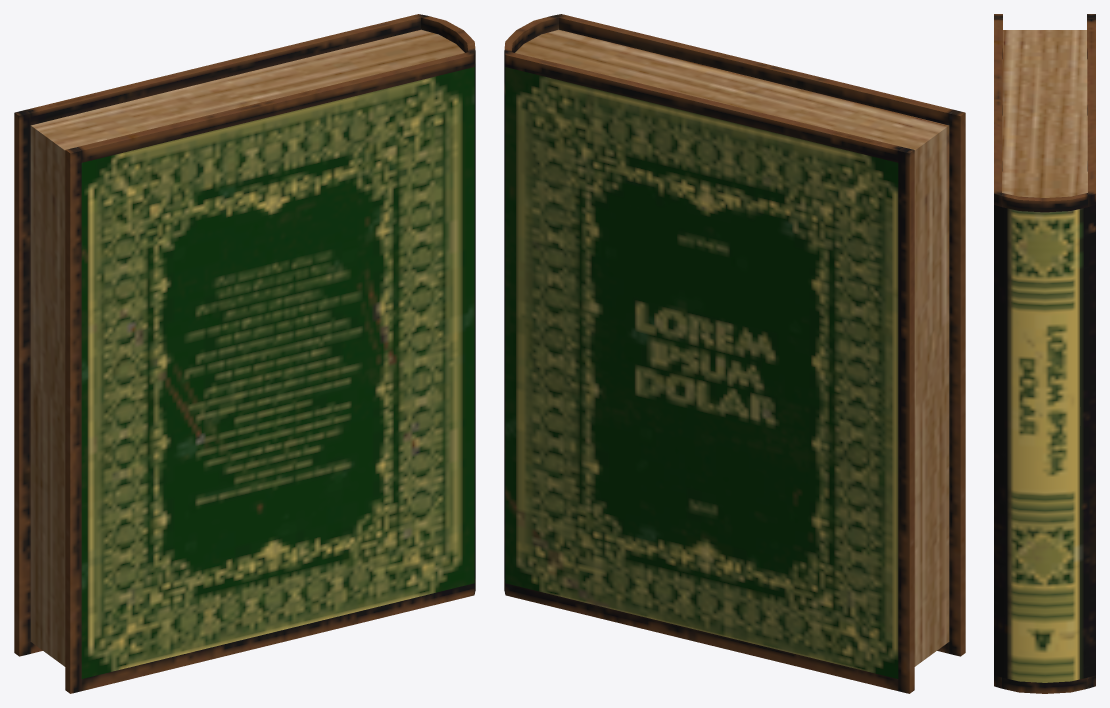
The model's file is Prop_Book_x5.obj.
The picture shows the model from 3 angles, left to right: view 1: azimuth 30°, elevation 25°; view 2: azimuth 150°, elevation 25°; view 3: azimuth 270°, elevation 25°; orthographic projection. The views are drawn at different scales.
Parts seen in each view (by area): view 1: Prop_Book_x5_0; view 2: Prop_Book_x5_0; view 3: Prop_Book_x5_0.
Part boxes in pixels (box(x1,y1,x2,y2)): Prop_Book_x5_0: box(14, 14, 475, 693); Prop_Book_x5_0: box(504, 14, 965, 693); Prop_Book_x5_0: box(994, 14, 1095, 693).
Bounding box in the file's own units: 0.291 × 0.3567 × 0.0669.
1 material, 1 textured.
